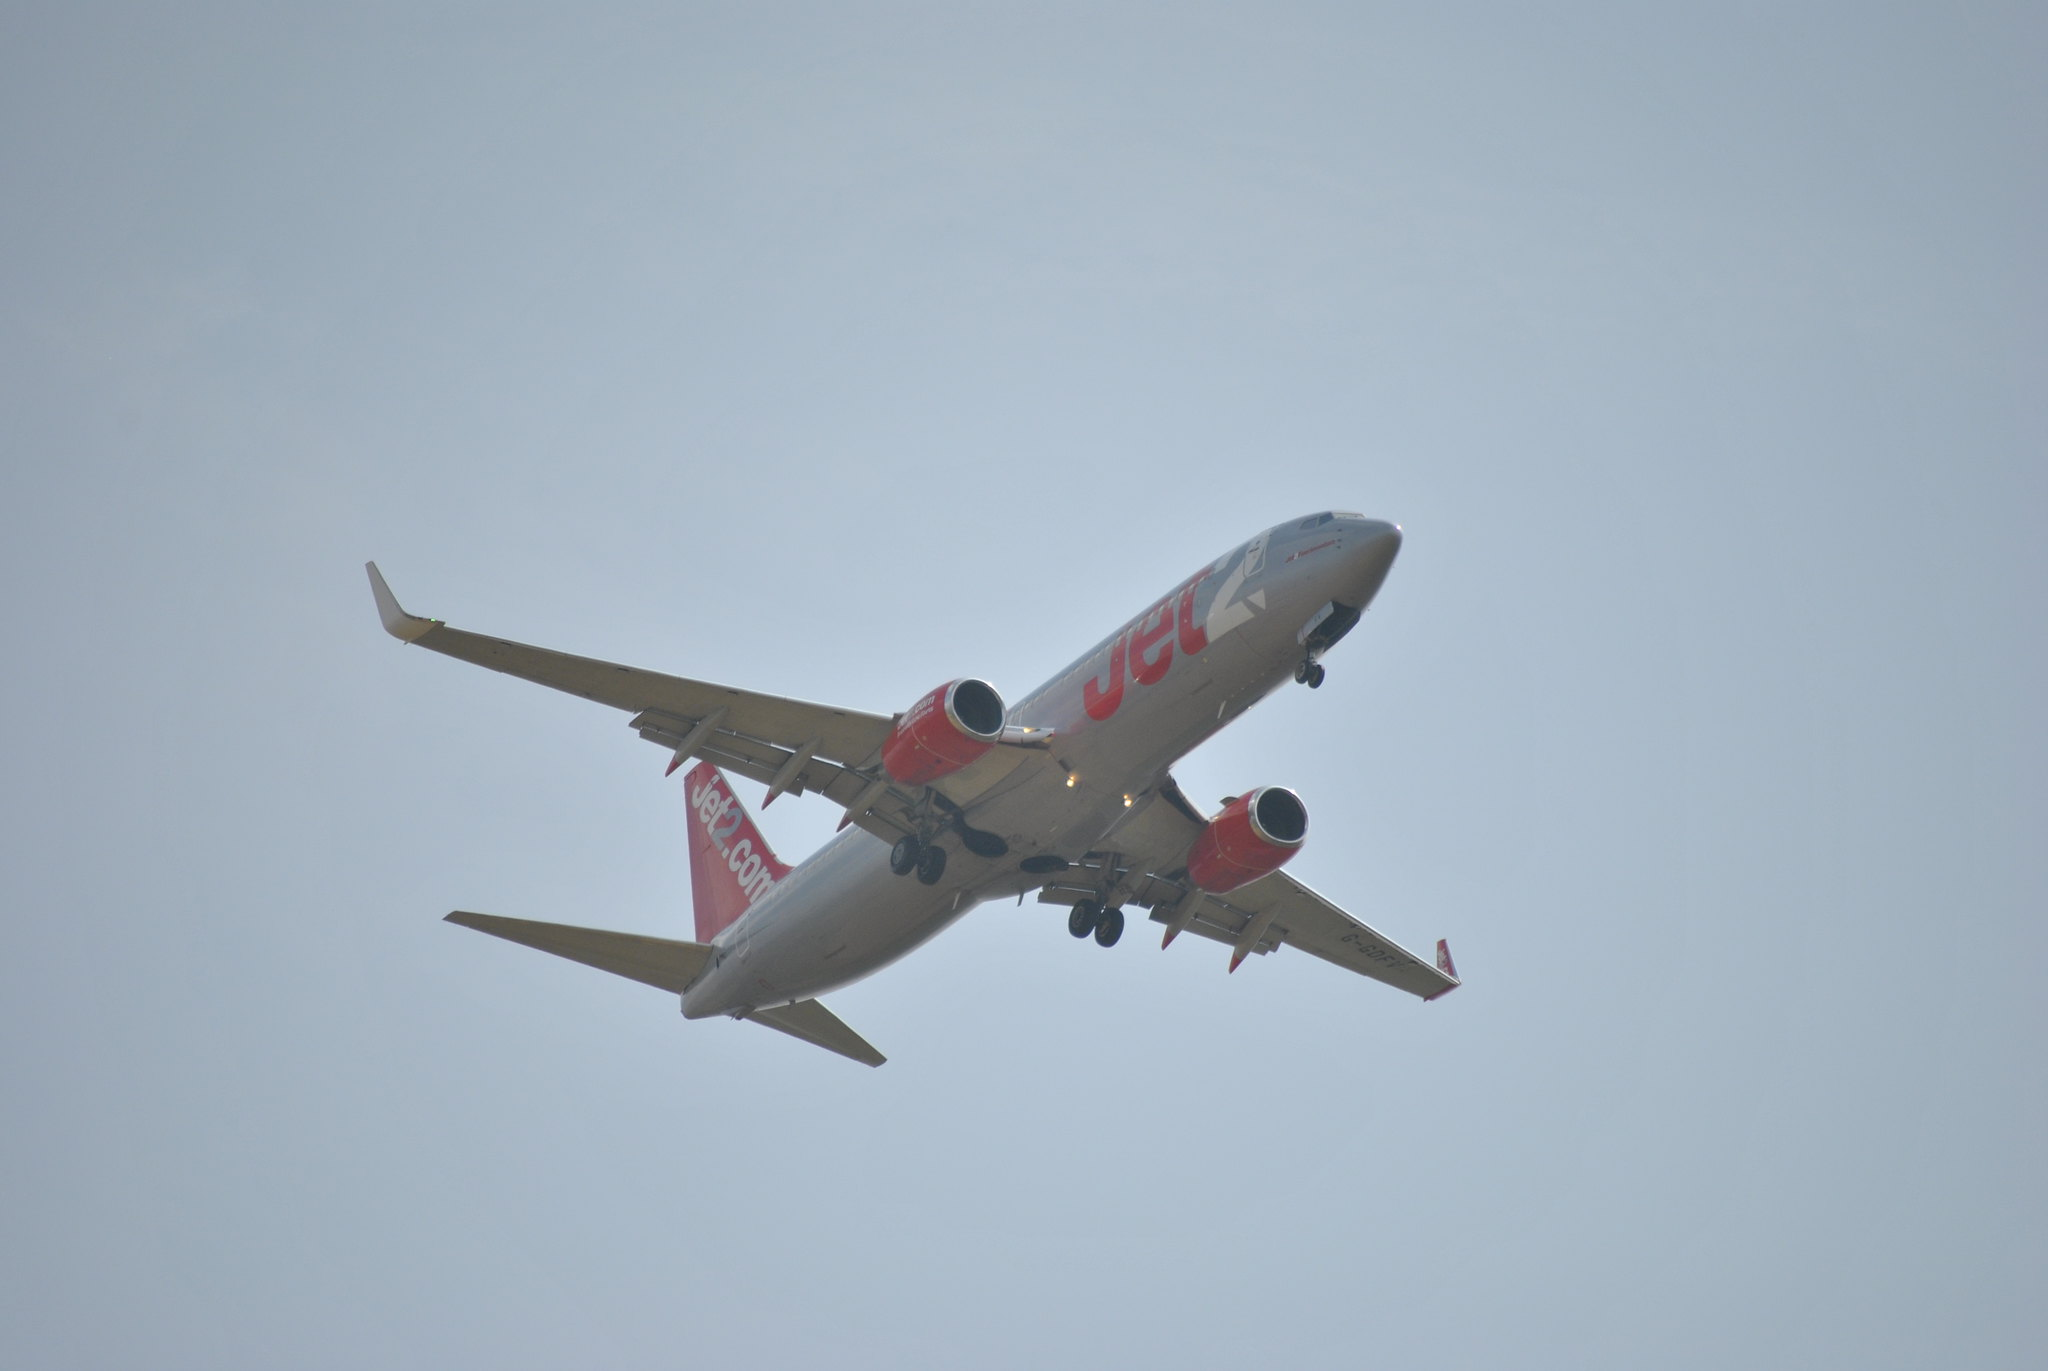aeroplane: (369, 500, 1467, 1074)
